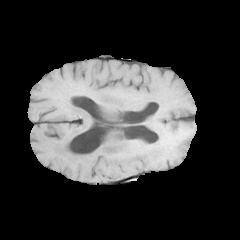glioma: (49, 114, 178, 167)
